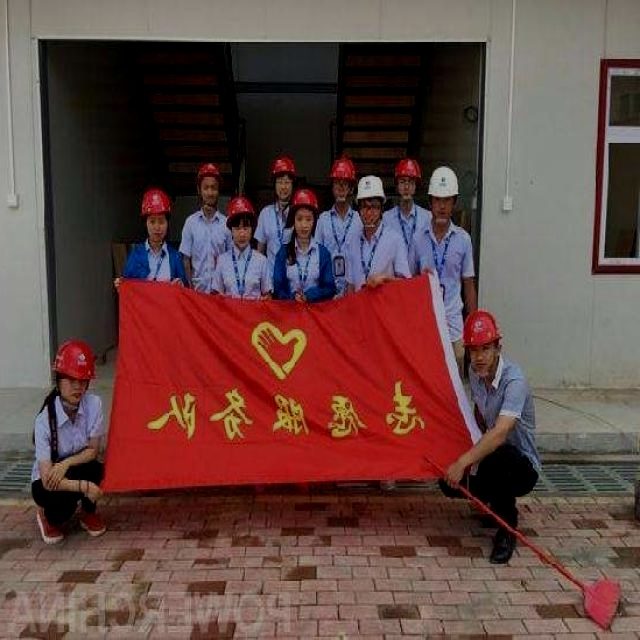Con_Casco: (461, 312, 506, 377), (54, 338, 94, 405)
